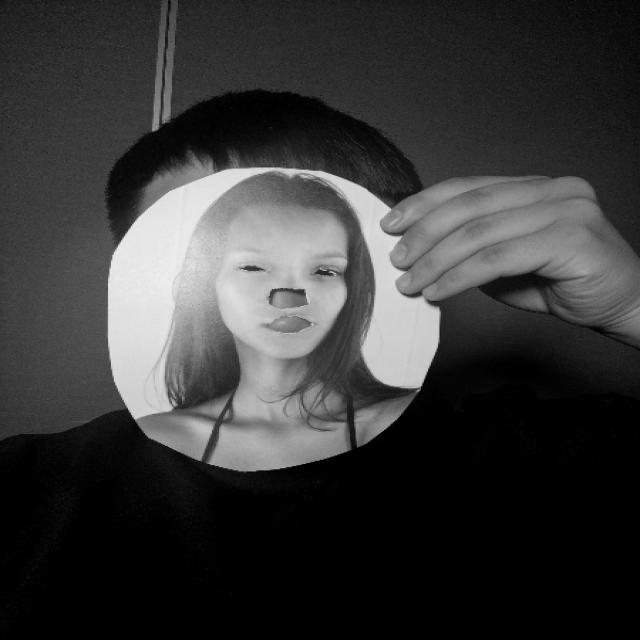fake: (100, 165, 446, 475)
